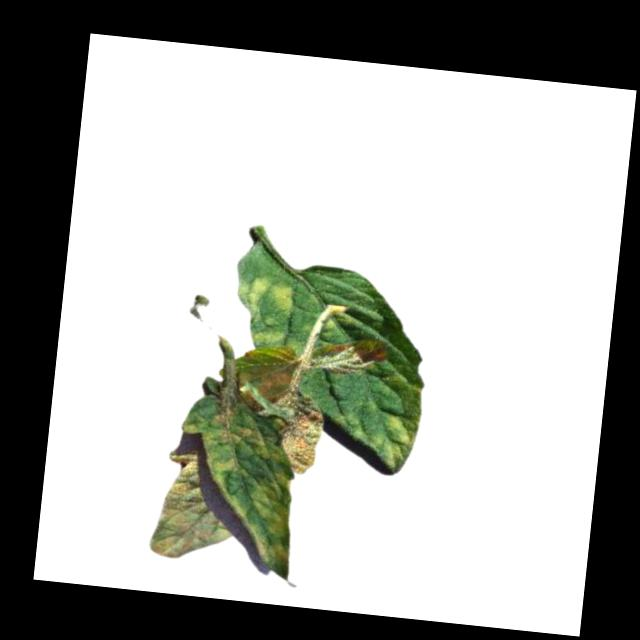Leaf_Mold: (149, 456, 235, 563), (176, 401, 288, 468), (239, 462, 298, 579), (366, 371, 426, 476), (223, 271, 296, 347), (273, 389, 327, 478)
